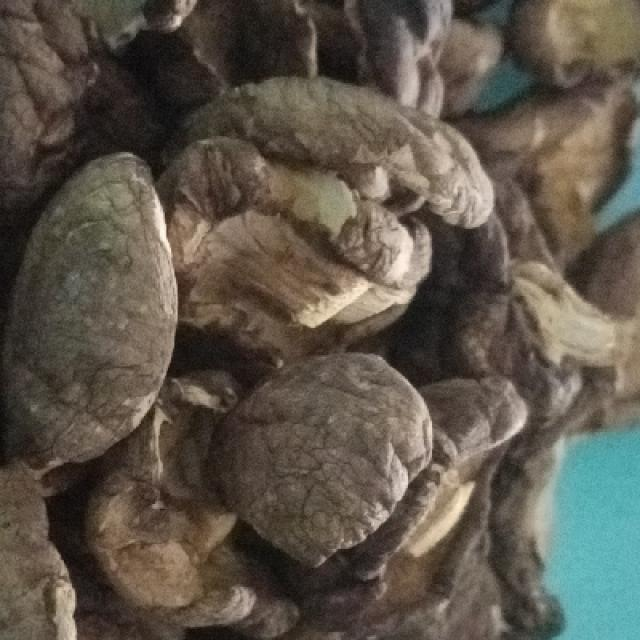Lentinus edodes: (0, 151, 179, 473), (155, 142, 431, 350), (214, 353, 434, 570), (179, 81, 495, 230)
